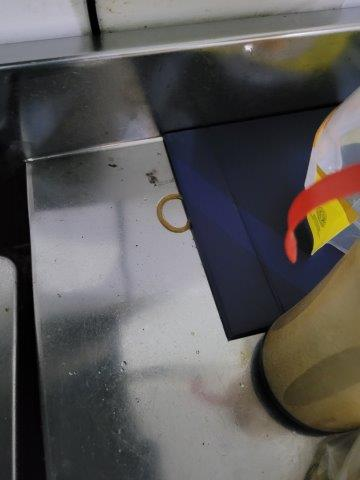karet: (157, 194, 195, 234)
